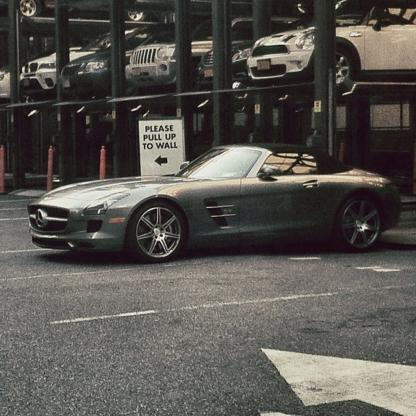Car: (1, 1, 416, 87)
